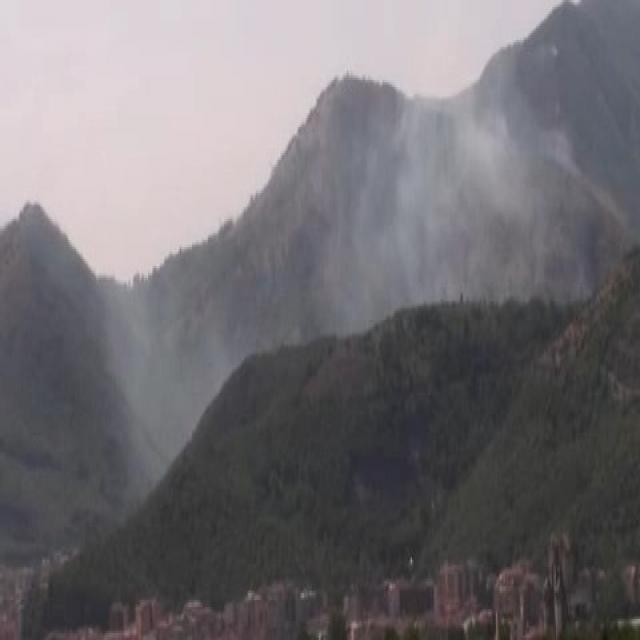smoke: (348, 69, 554, 305)
